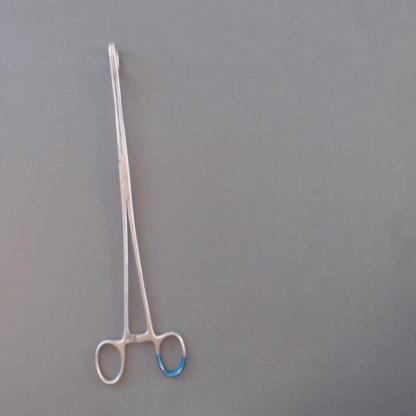Sponge Forceps: (89, 35, 194, 395)
